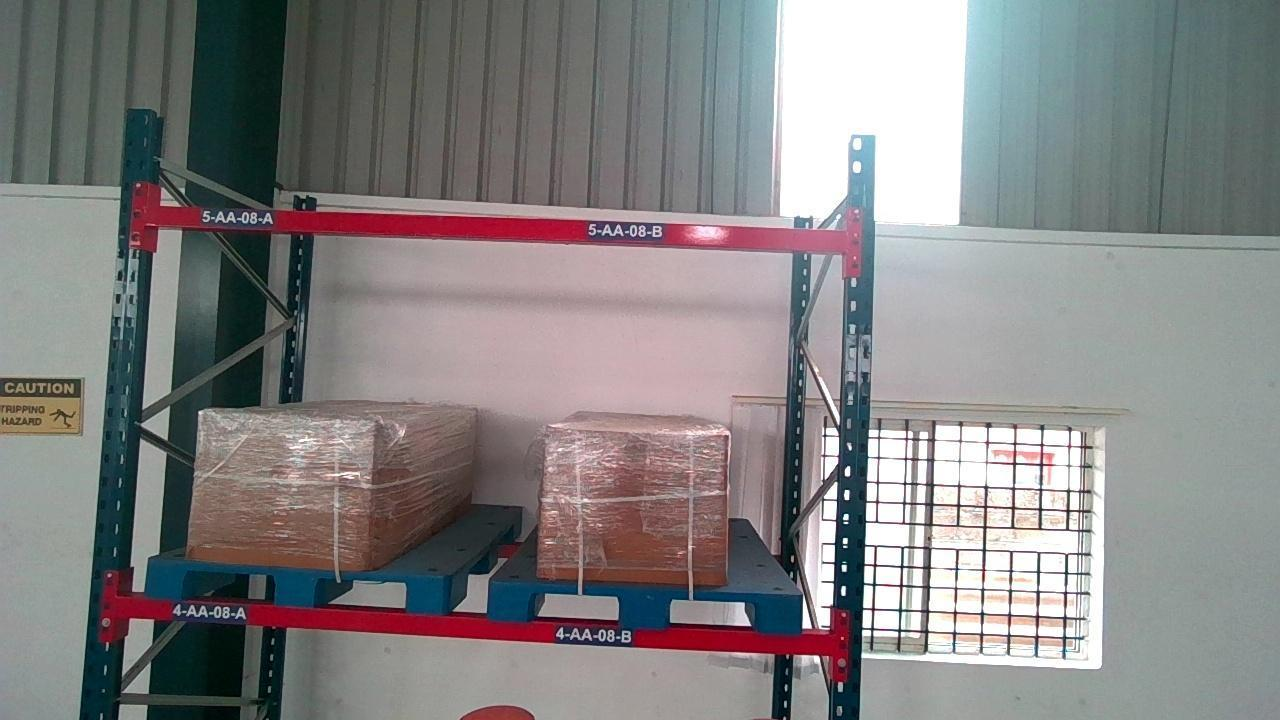h_rack: (129, 599, 840, 653), (144, 204, 860, 256)
small_pallet: (489, 581, 803, 630), (147, 564, 445, 606)
